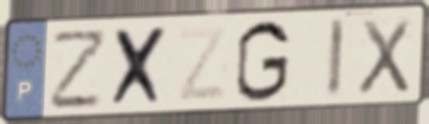G: (233, 18, 293, 105)
I: (324, 15, 348, 101)
X: (108, 23, 173, 110), (354, 15, 413, 98)
Z: (49, 26, 110, 112), (175, 24, 230, 104)
